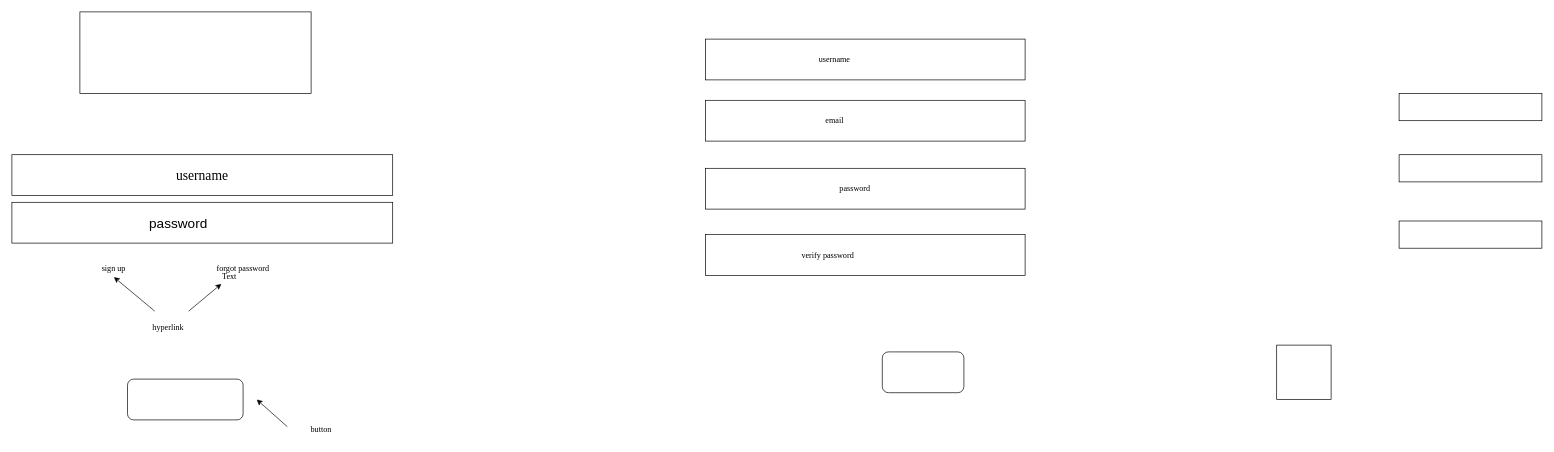
Some shapes in this 1554 by 452 pixel diagram are drawn without their labels. Here are the shapes that lost their labels. From the top down, the centre of each, then its label:
At point (195, 52): "logo".
At point (923, 372): "submit".
At point (185, 399): "Sign in".
